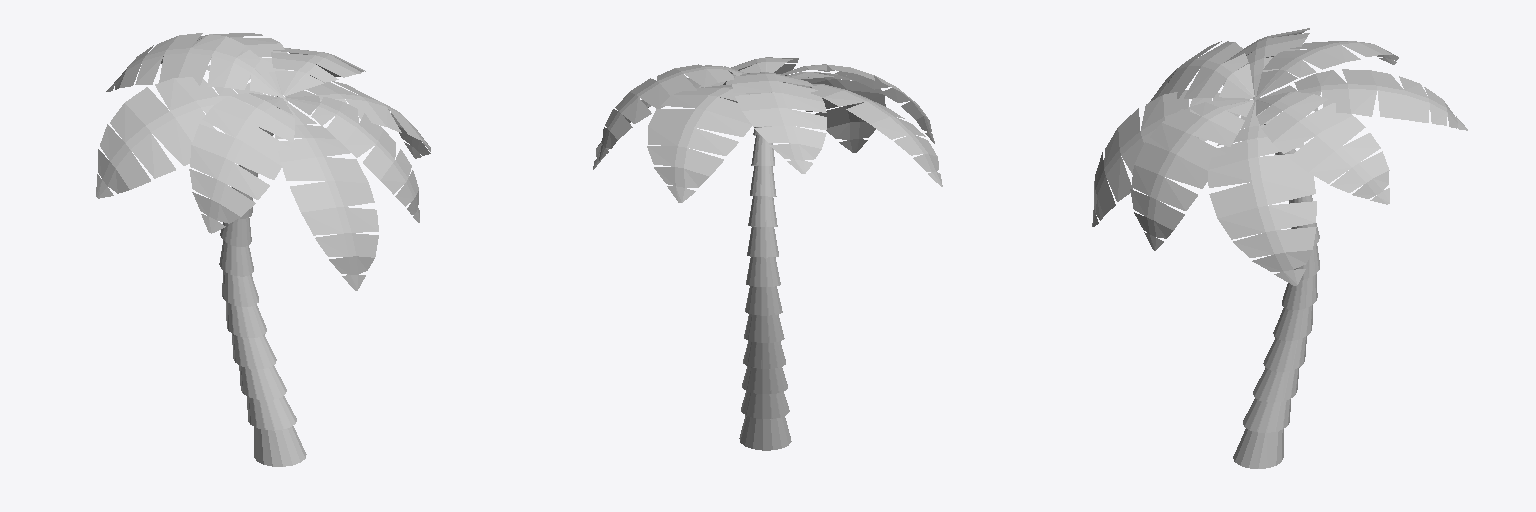
The model's file is palm_tree.obj.
3 views of the same model, side by side, from view 1: azimuth 30°, elevation 25°; view 2: azimuth 150°, elevation 25°; view 3: azimuth 270°, elevation 25° (orthographic).
Visible parts, largest first — view 1: leaves, trunk, leaves.001; view 2: leaves, trunk, leaves.001; view 3: leaves, leaves.001, trunk.
Boxes of the visible parts, x1,y1,x2,y2 form: leaves: [96, 33, 430, 290]; trunk: [219, 95, 306, 466]; leaves.001: [96, 33, 430, 288]; leaves: [593, 57, 942, 202]; trunk: [739, 92, 791, 450]; leaves.001: [593, 57, 941, 201]; leaves: [1092, 28, 1467, 285]; leaves.001: [1092, 29, 1466, 282]; trunk: [1233, 97, 1319, 468].
Size of the model in its own units: 1.95 by 2.19 by 1.91.